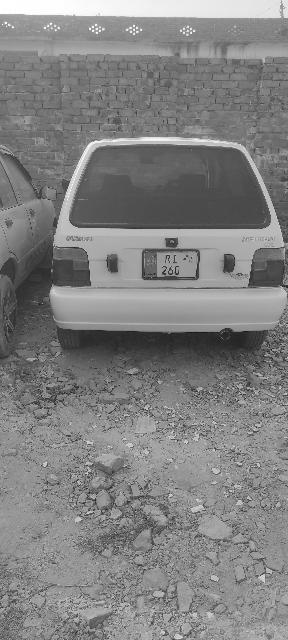Number: (161, 253, 181, 277)
